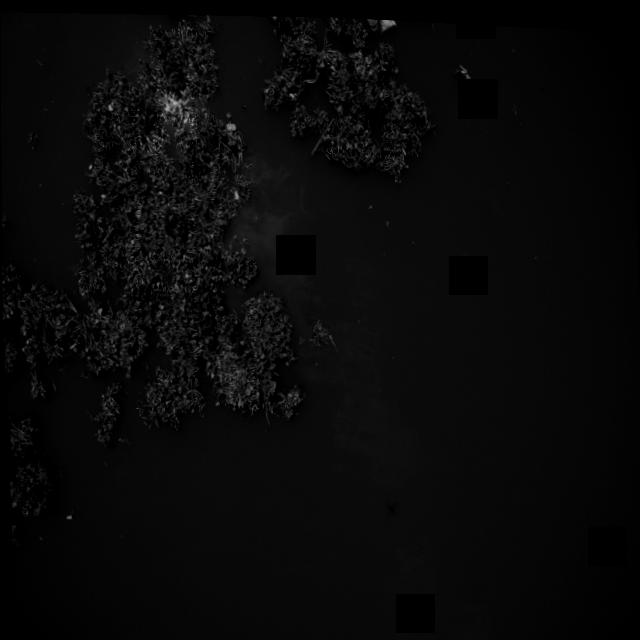plastic: (362, 15, 408, 34), (223, 118, 240, 131), (231, 183, 242, 200), (106, 95, 116, 112), (400, 141, 408, 152), (64, 511, 73, 520), (86, 161, 94, 171)
